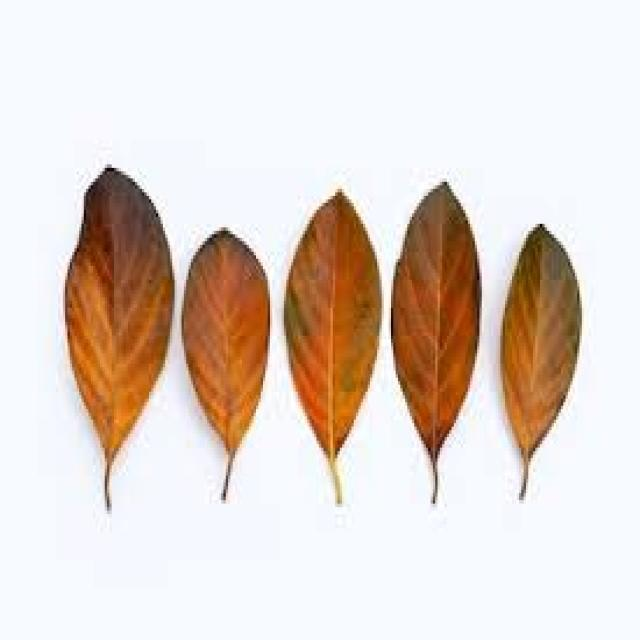leaf: (62, 163, 174, 510), (283, 187, 382, 504), (390, 179, 481, 503), (180, 226, 270, 501), (500, 222, 582, 500)
